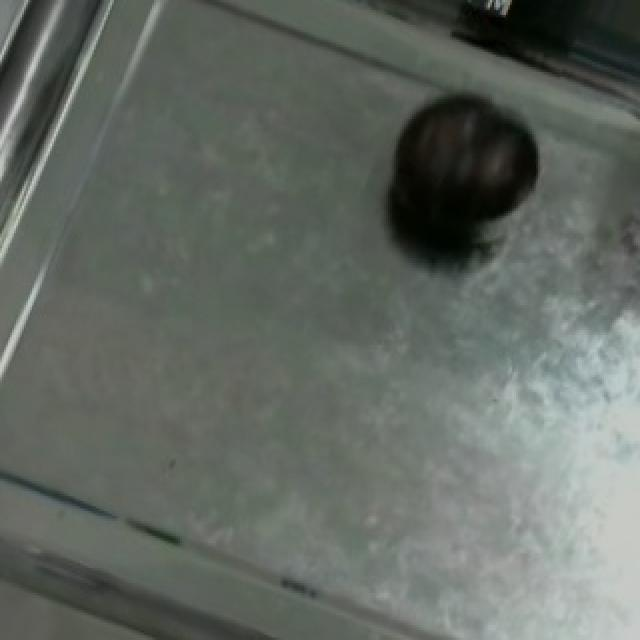Fruit: (370, 74, 558, 273)
